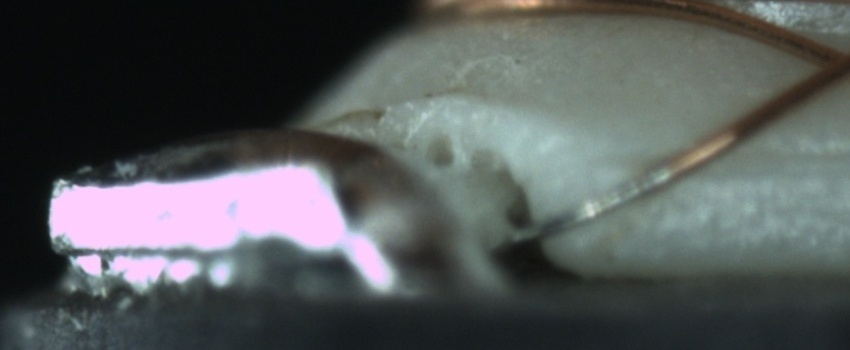CL: (800, 33, 849, 91)
DL: (632, 120, 845, 195)
TS: (496, 163, 671, 246)
